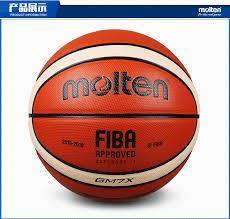ball: (29, 30, 199, 201)
